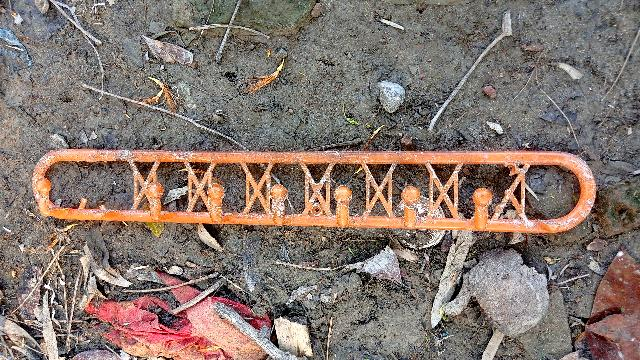hardplastic: (22, 135, 600, 237)
